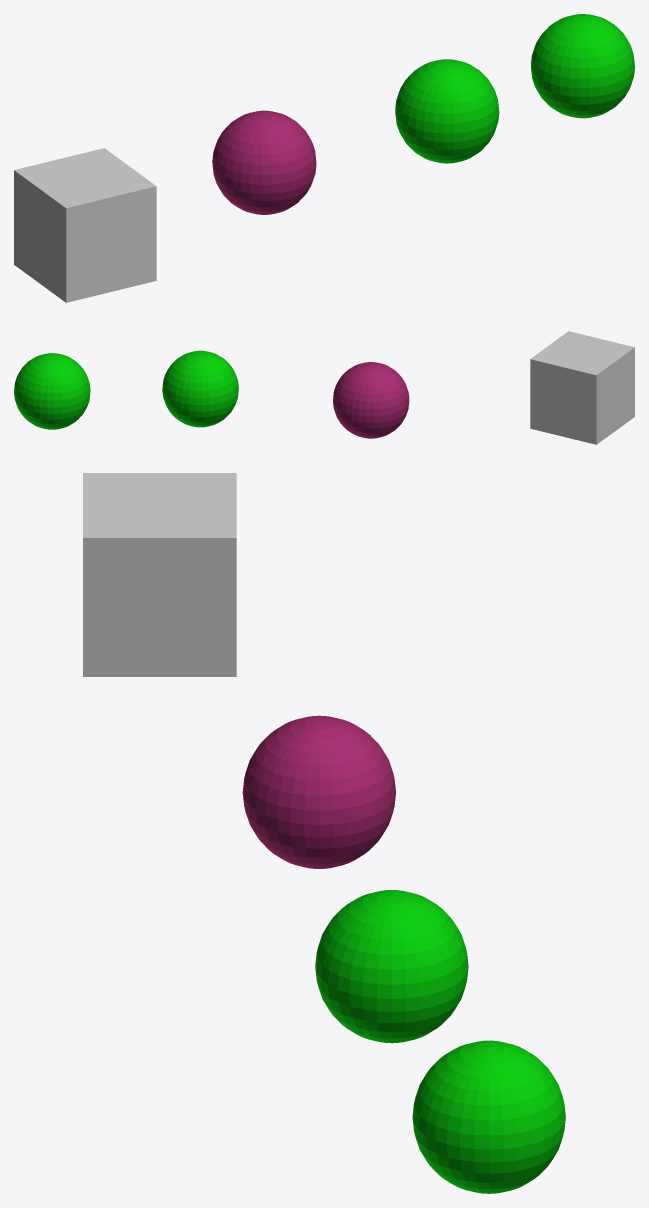
File: traffic-light.dae
3 views of the same model, one above another, from view 1: azimuth 30°, elevation 25°; view 2: azimuth 150°, elevation 25°; view 3: azimuth 270°, elevation 25° (orthographic). The views are drawn at different scales.
Parts seen in each view (by area): view 1: Cube, Sphere, Sphere-001, Sphere-002; view 2: Cube, Sphere-002, Sphere-001, Sphere; view 3: Cube, Sphere-002, Sphere, Sphere-001.
Boxes of the visible parts, bbox=[...] form: Cube: bbox=[14, 148, 156, 302]; Sphere: bbox=[212, 110, 316, 214]; Sphere-001: bbox=[395, 59, 499, 163]; Sphere-002: bbox=[531, 14, 634, 118]; Cube: bbox=[530, 331, 634, 444]; Sphere-002: bbox=[14, 353, 90, 429]; Sphere-001: bbox=[162, 350, 238, 427]; Sphere: bbox=[333, 362, 409, 438]; Cube: bbox=[83, 473, 236, 676]; Sphere-002: bbox=[412, 1040, 565, 1193]; Sphere: bbox=[242, 715, 395, 868]; Sphere-001: bbox=[315, 890, 468, 1043].
Bounding box in the file's own units: 15.49 × 3.51 × 6.29.
